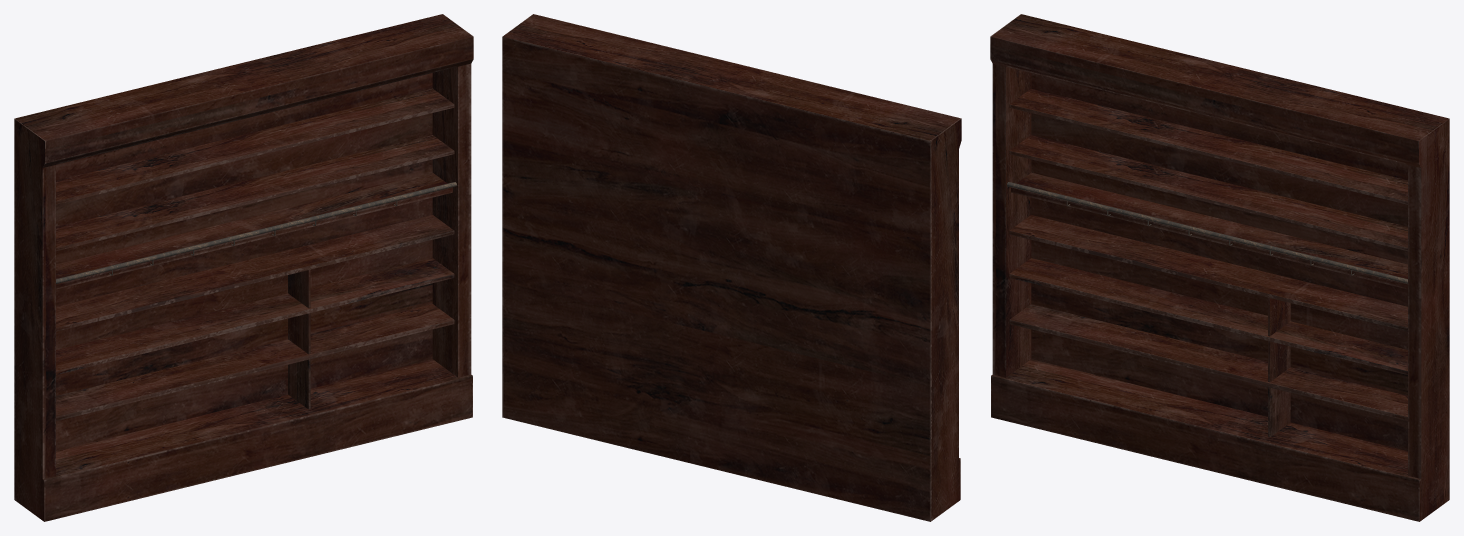
File: SM_BookcaseA.FBX
The picture shows the model from 3 angles, left to right: view 1: azimuth 30°, elevation 25°; view 2: azimuth 150°, elevation 25°; view 3: azimuth 330°, elevation 25°; orthographic projection.
Visible parts, largest first — view 1: SM_BookcaseA_LOD0; view 2: SM_BookcaseA_LOD0; view 3: SM_BookcaseA_LOD0.
Part boxes in pixels (x1,y1,x2,y2): SM_BookcaseA_LOD0: [14, 14, 473, 521]; SM_BookcaseA_LOD0: [502, 14, 961, 521]; SM_BookcaseA_LOD0: [990, 14, 1449, 521].
Size of what is drawn, in the model's own units: 400 by 340 by 50.
